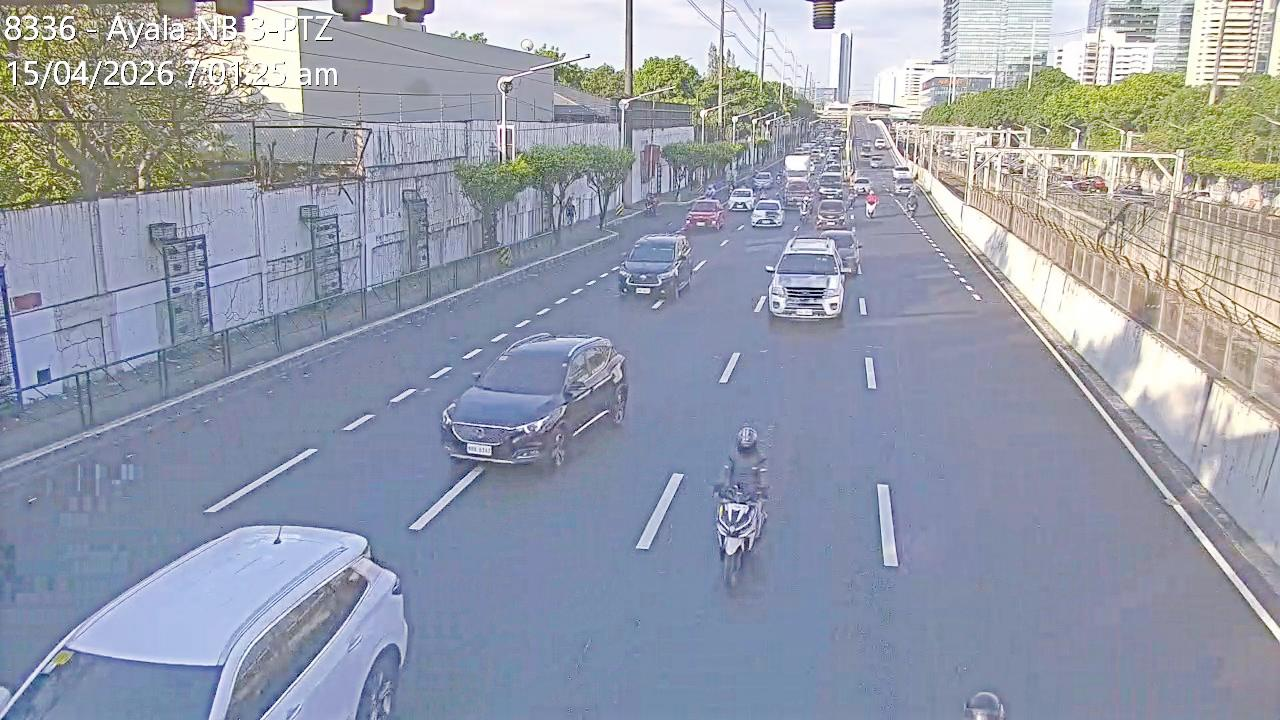Car: (1, 524, 406, 718), (440, 334, 624, 470), (765, 235, 848, 320), (615, 231, 696, 304), (819, 228, 862, 275), (684, 198, 726, 230), (813, 198, 848, 231), (749, 198, 786, 228), (784, 180, 814, 211), (1064, 177, 1108, 194), (726, 187, 756, 211), (751, 170, 775, 191), (851, 176, 872, 195)
Motor: (895, 181, 917, 214)
